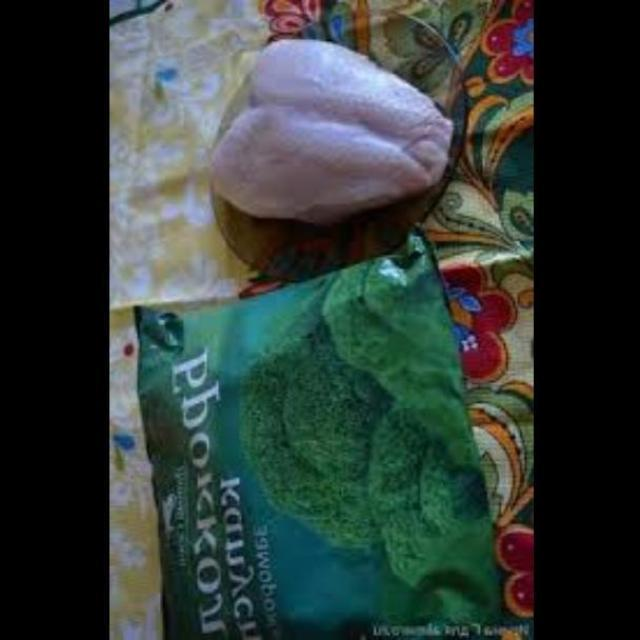Broccoli: (239, 346, 479, 552)
